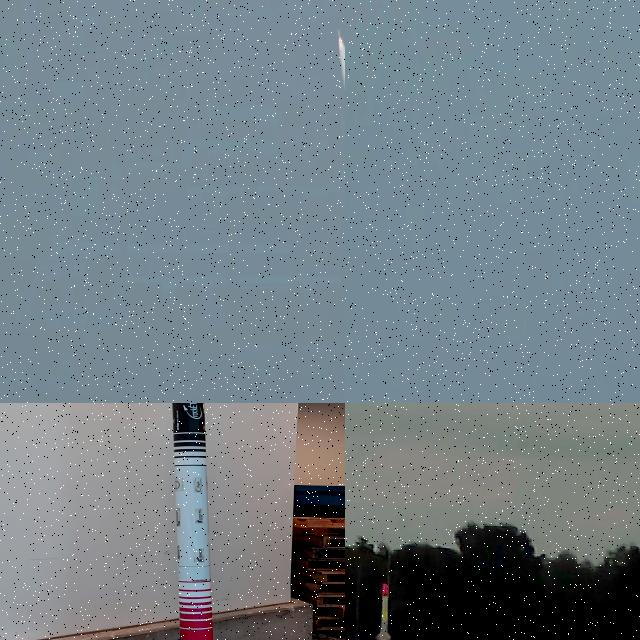Rocket: (172, 403, 214, 640), (375, 582, 391, 640), (338, 28, 342, 40)
